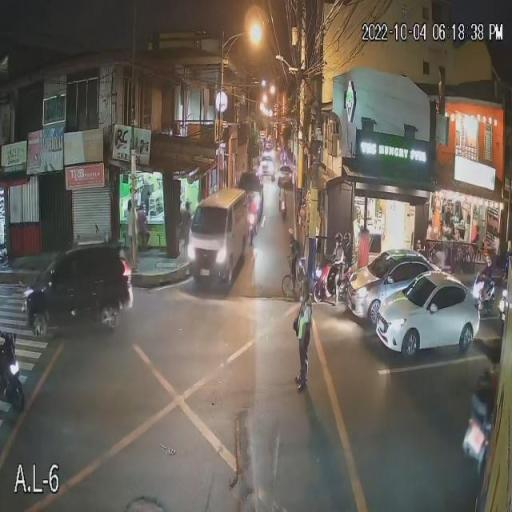helmet: (473, 369, 497, 405), (331, 232, 342, 241), (341, 231, 350, 240)
motorcycle: (462, 368, 494, 472), (311, 254, 352, 306), (0, 335, 26, 413), (471, 270, 504, 322), (247, 206, 260, 243), (278, 200, 288, 223)
rider: (467, 360, 494, 428), (478, 252, 500, 306), (248, 190, 260, 222), (277, 186, 287, 210)
